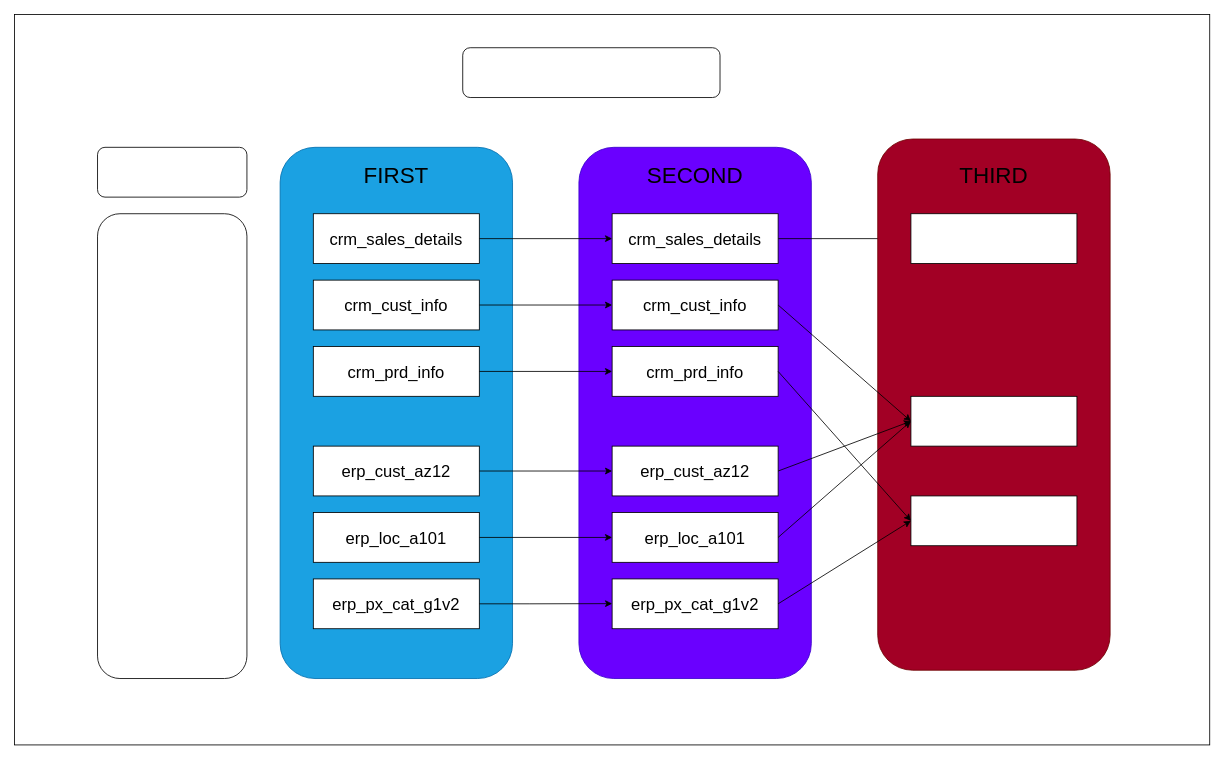
The diagram is 1224 pixels wide and 759 high, and some of its shapes have lost their labels. Each missing label, with the centre of its shape:
"customer_dim" goes at pixel 993 420.
"DATA FLOW" goes at pixel 591 72.
"product_dim" goes at pixel 993 520.
"sales_fact" goes at pixel 993 238.
"SCHEMAS" goes at pixel 172 171.
"TABLES" goes at pixel 172 446.
